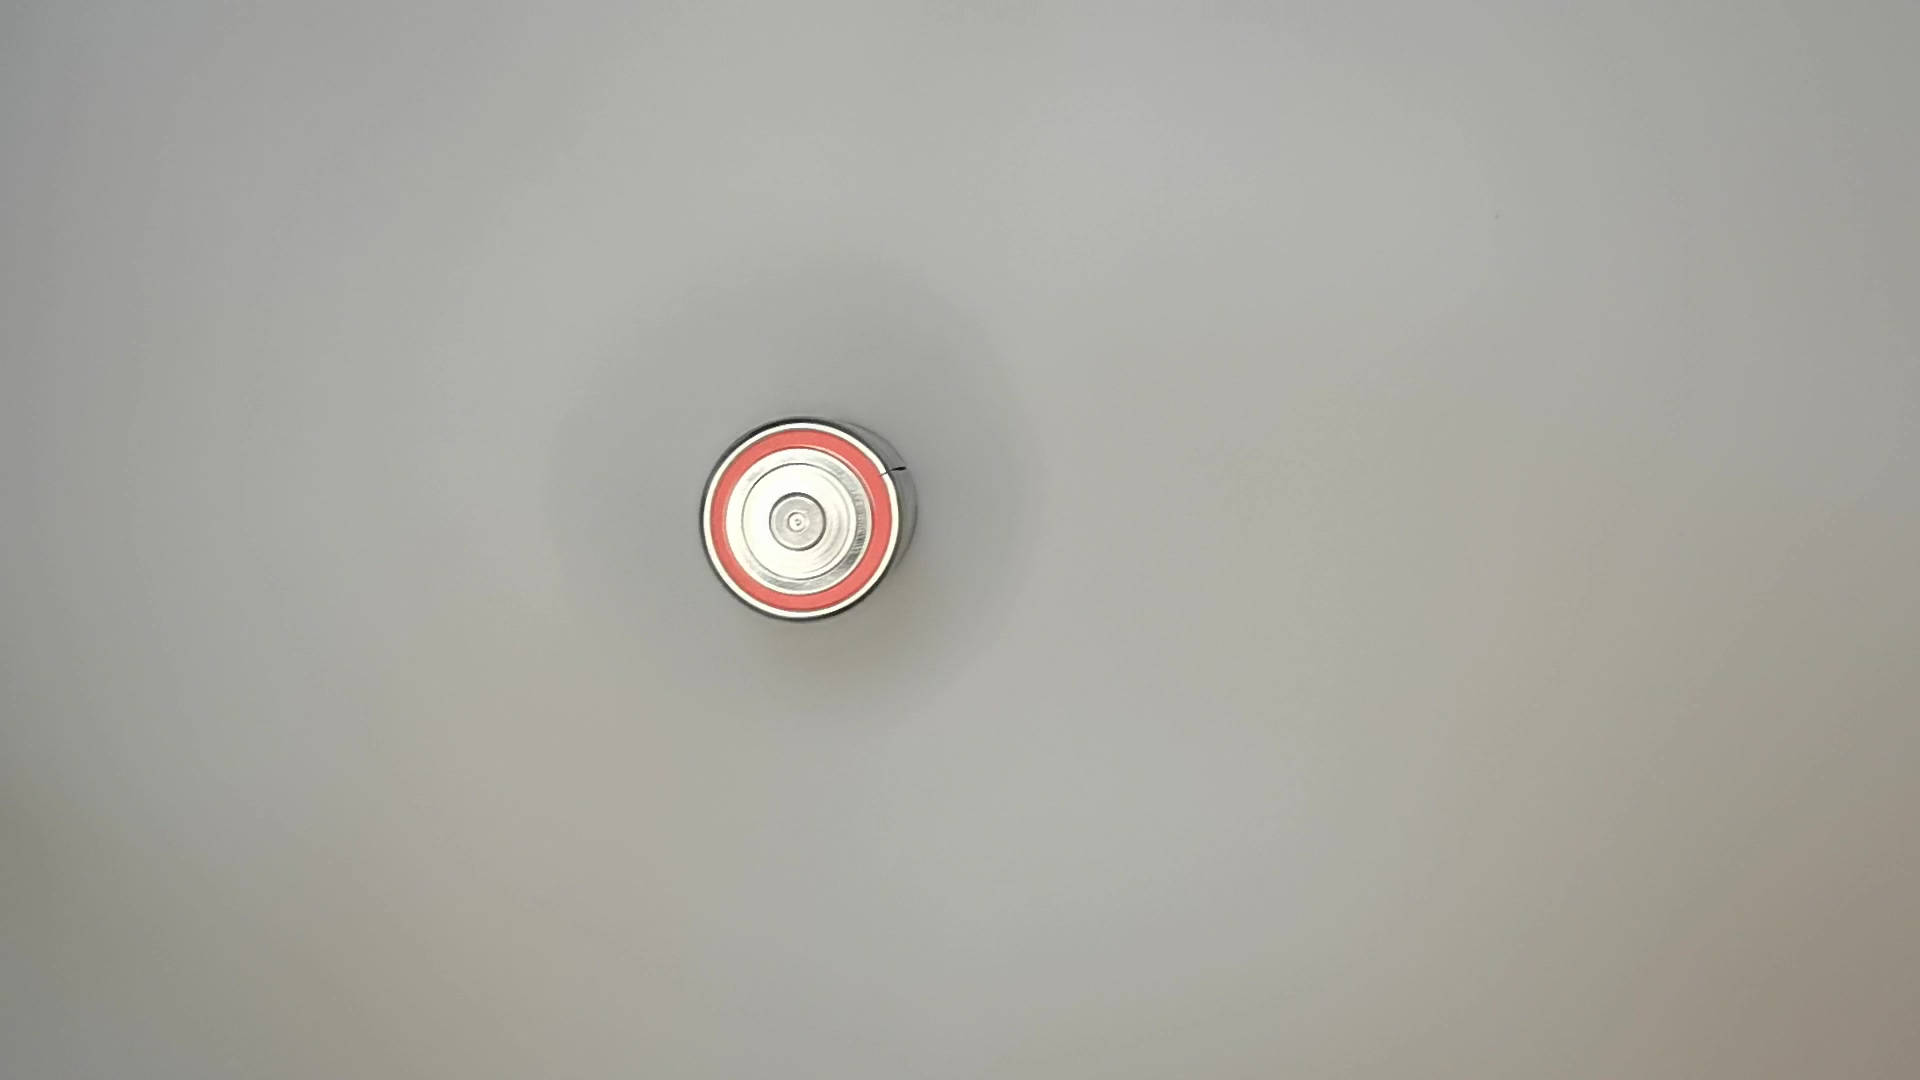battery: (696, 411, 923, 624)
